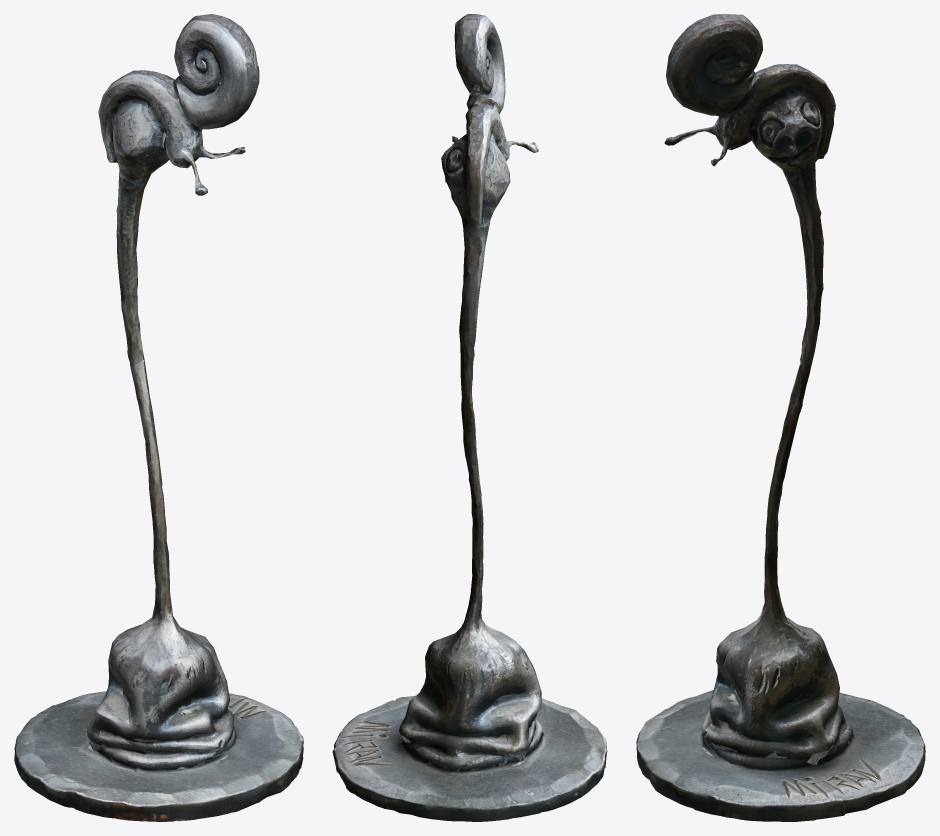
The model's file is small-snail.glb.
3 views of the same model, side by side, from view 1: azimuth 30°, elevation 25°; view 2: azimuth 150°, elevation 25°; view 3: azimuth 270°, elevation 25° (orthographic). The views are drawn at different scales.
Visible parts, largest first — view 1: model.001; view 2: model.001; view 3: model.001.
Part boxes in pixels (x1,y1,x2,y2): model.001: [14, 14, 303, 821]; model.001: [332, 14, 607, 821]; model.001: [636, 14, 925, 821].
Bounding box in the file's own units: 0.1599 × 0.46 × 0.1587.
Materials: 1 (1 with a texture image).
